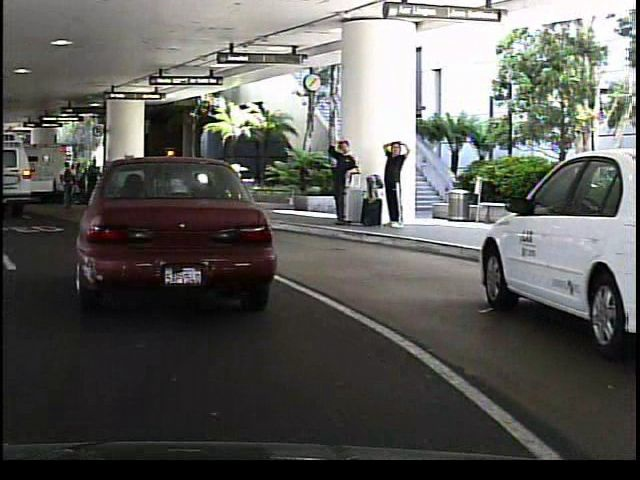person: (324, 134, 356, 225), (378, 135, 407, 231), (206, 151, 233, 215), (348, 151, 370, 221)
